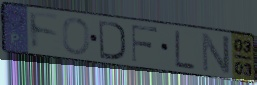D: (97, 19, 128, 62)
F: (27, 9, 61, 52), (131, 24, 160, 64)
L: (173, 28, 197, 71)
N: (200, 30, 232, 76)
O: (61, 17, 92, 57)
